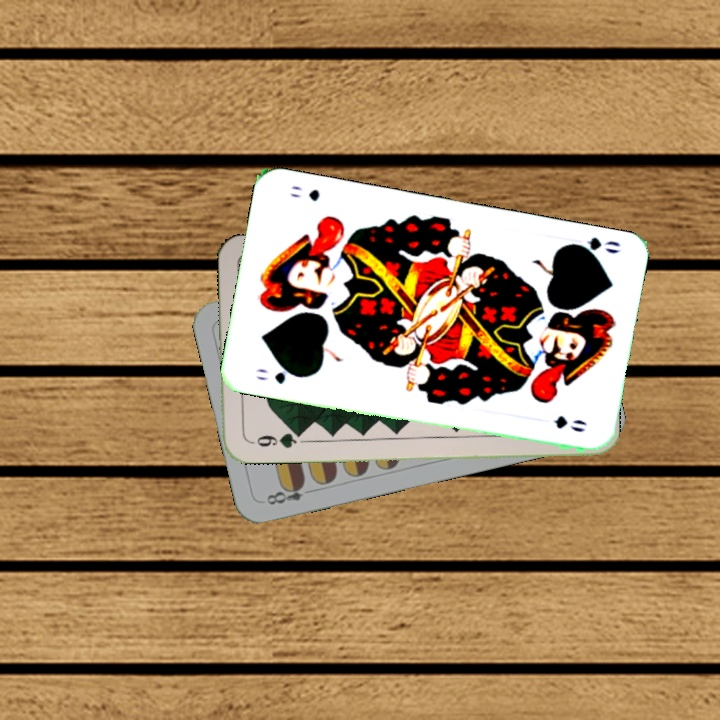E8: (262, 478, 318, 508)
G9: (244, 428, 303, 451)
GO: (563, 233, 623, 261), (251, 364, 304, 387)
